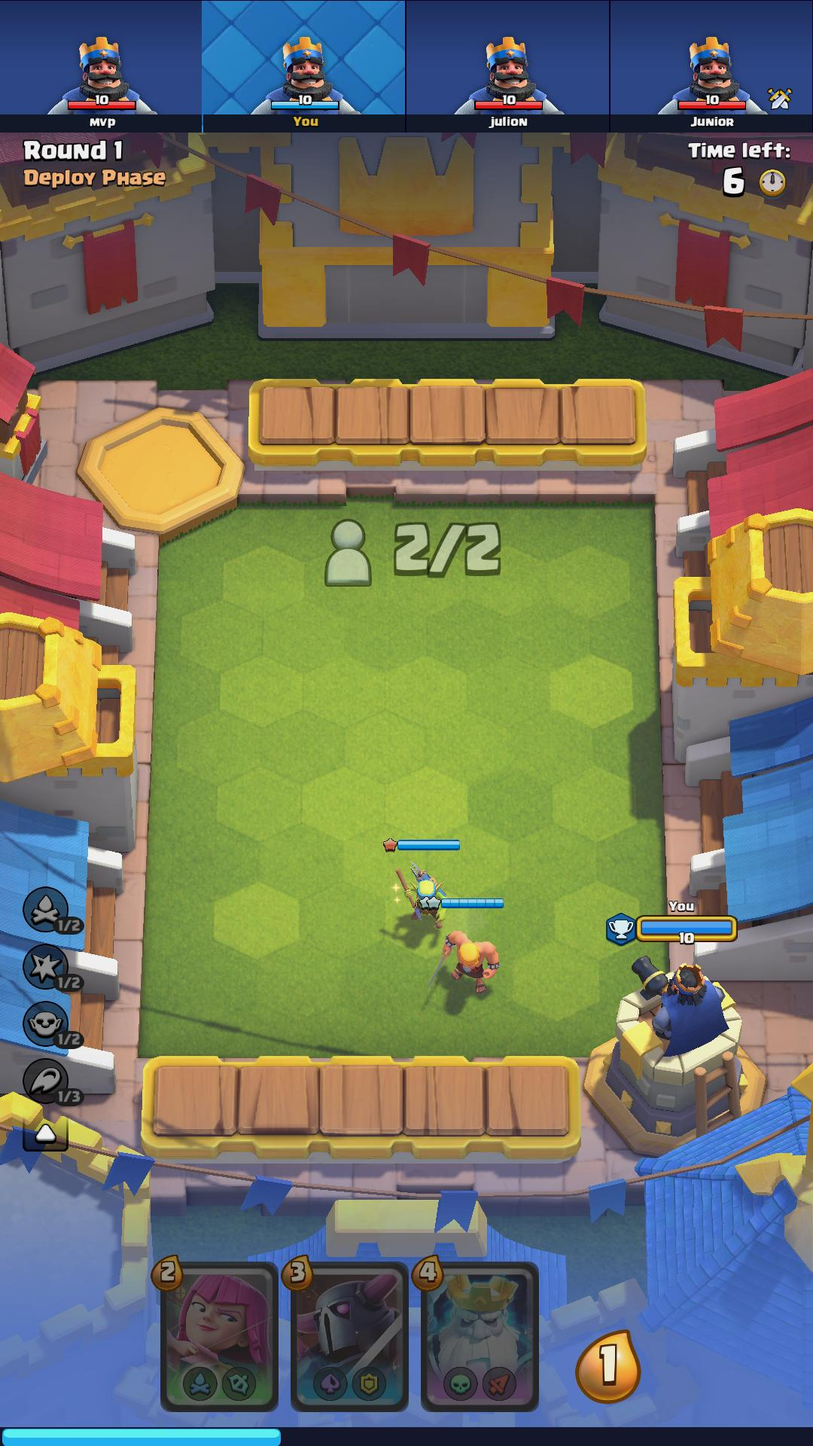barbarian: (442, 922, 505, 994)
hand-archer: (159, 1270, 274, 1404)
hand-ghost: (420, 1258, 541, 1409)
hand-pekka: (292, 1264, 406, 1412)
spear: (390, 855, 451, 921)
